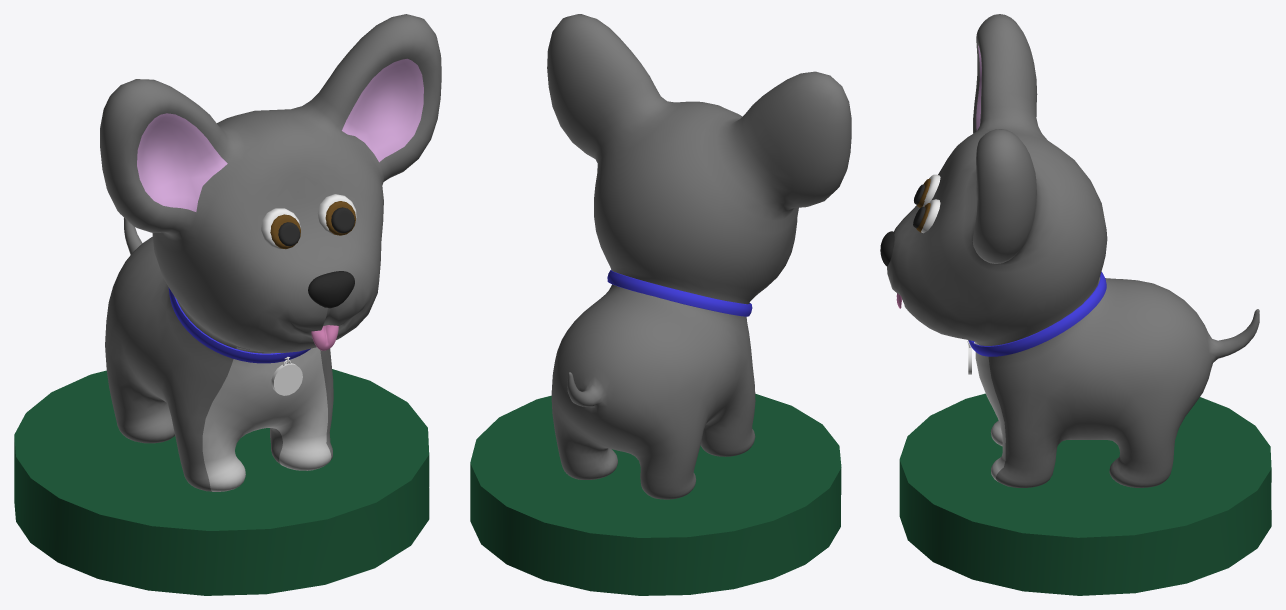
The model's file is Dog3.glb.
3 renders of one model, left to right at view 1: azimuth 30°, elevation 25°; view 2: azimuth 150°, elevation 25°; view 3: azimuth 270°, elevation 25°, orthographic. The views are drawn at different scales.
Parts seen in each view (by area): view 1: Chihuahua_Body, Chihuahua_Floor, Chihuahua_Collar, Chihuahua_Nose, Chihuahua_Eyes, Chihuahua_Pupils, Chihuahua_Iris, Chihuahua_Metall; view 2: Chihuahua_Body, Chihuahua_Floor, Chihuahua_Collar; view 3: Chihuahua_Body, Chihuahua_Floor, Chihuahua_Collar, Chihuahua_Eyes.
Part boxes in pixels (left/top/right/bottom): Chihuahua_Body: left=100, top=14, right=441, bottom=491; Chihuahua_Floor: left=14, top=369, right=429, bottom=595; Chihuahua_Collar: left=168, top=287, right=310, bottom=363; Chihuahua_Nose: left=308, top=271, right=354, bottom=308; Chihuahua_Eyes: left=261, top=194, right=356, bottom=249; Chihuahua_Pupils: left=278, top=207, right=354, bottom=246; Chihuahua_Iris: left=270, top=201, right=356, bottom=249; Chihuahua_Metall: left=271, top=357, right=302, bottom=395; Chihuahua_Body: left=547, top=14, right=851, bottom=499; Chihuahua_Floor: left=470, top=393, right=841, bottom=595; Chihuahua_Collar: left=607, top=270, right=752, bottom=316; Chihuahua_Body: left=887, top=14, right=1259, bottom=487; Chihuahua_Floor: left=899, top=393, right=1271, bottom=595; Chihuahua_Collar: left=968, top=272, right=1106, bottom=356; Chihuahua_Eyes: left=921, top=174, right=940, bottom=233.
Size of the model in its own units: 0.9958 by 1.3 by 1.05.
